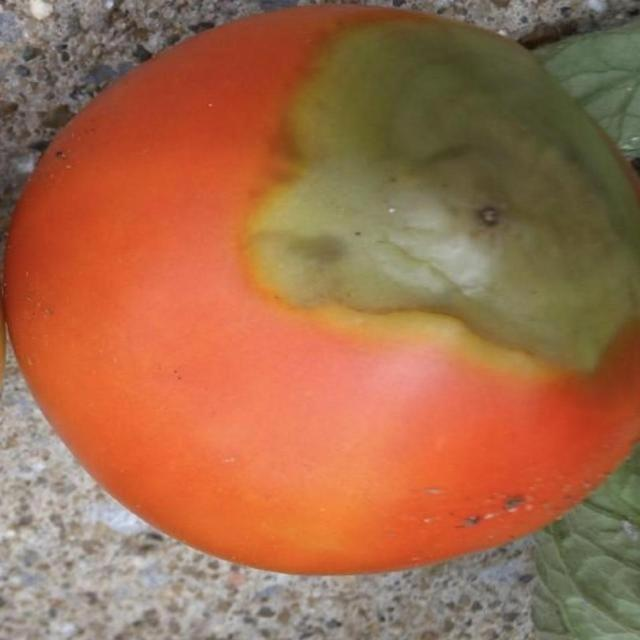Sunscald Fruit: (158, 12, 426, 253)
